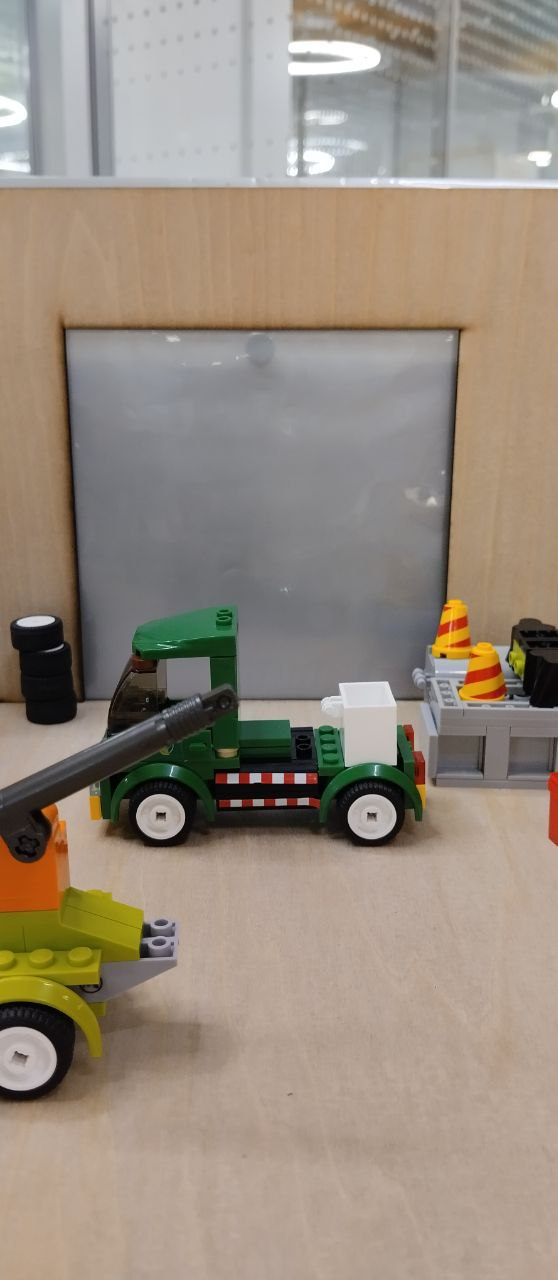Cone: (455, 642, 507, 702), (430, 600, 473, 660)
Crane: (0, 686, 241, 1092)
Object Black: (505, 618, 558, 710)
Object Red: (545, 770, 557, 844)
Object white: (322, 677, 407, 767)
Truck: (86, 607, 430, 847)
